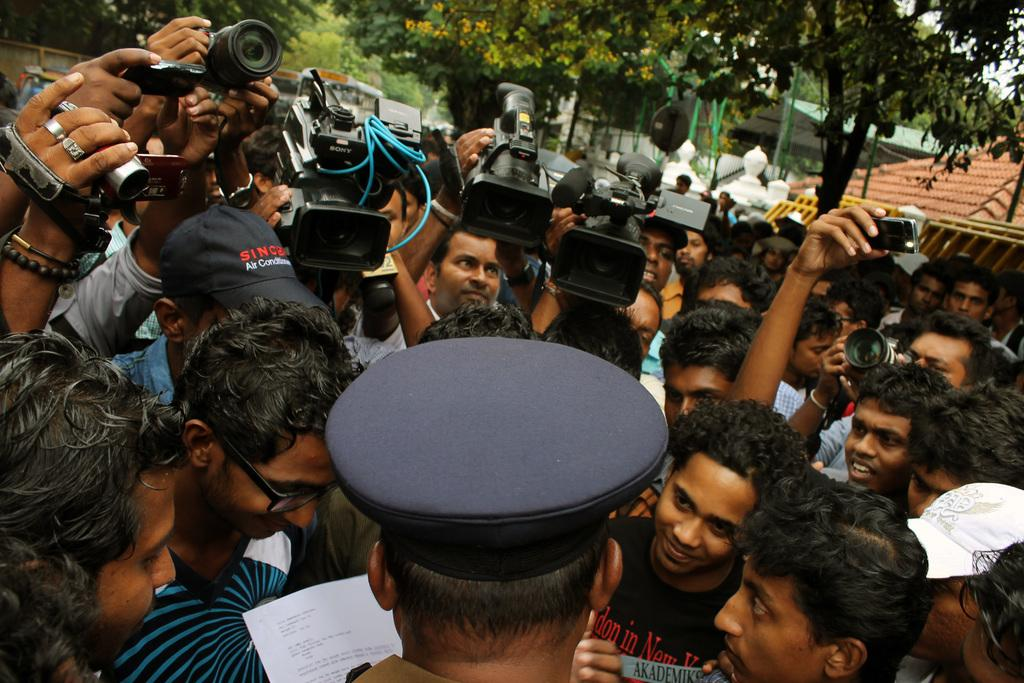Sem Máscara: (710, 555, 829, 681), (95, 462, 174, 648), (206, 429, 338, 535), (651, 449, 753, 570), (841, 392, 913, 490), (431, 232, 499, 312), (901, 328, 971, 386), (625, 286, 664, 360), (790, 328, 829, 380), (666, 226, 706, 267), (947, 279, 985, 318), (377, 186, 400, 241), (904, 267, 940, 299)
